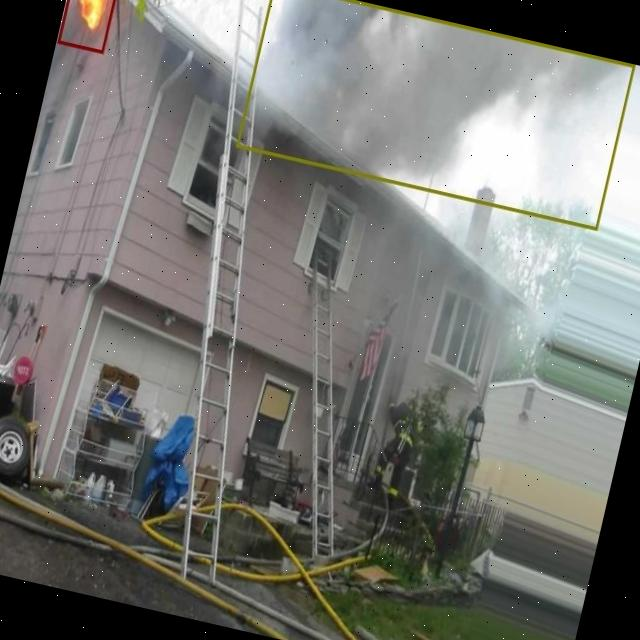fire: (56, 0, 126, 53)
smoke: (235, 0, 635, 229)
